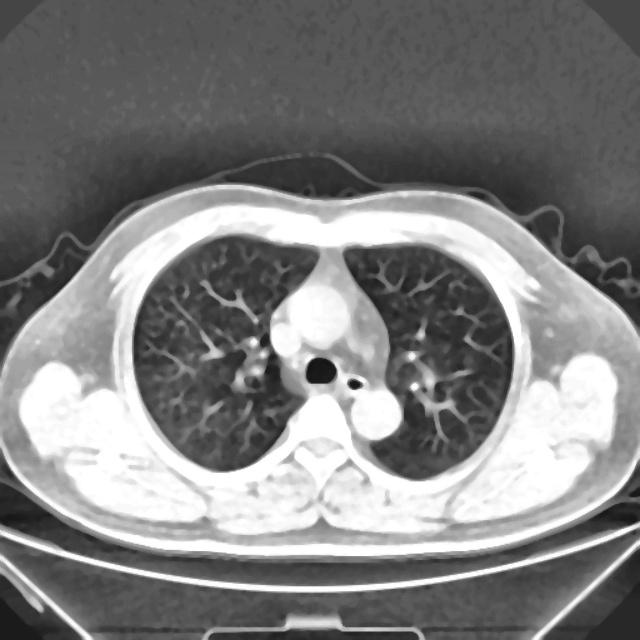covid: (1, 169, 638, 562)
